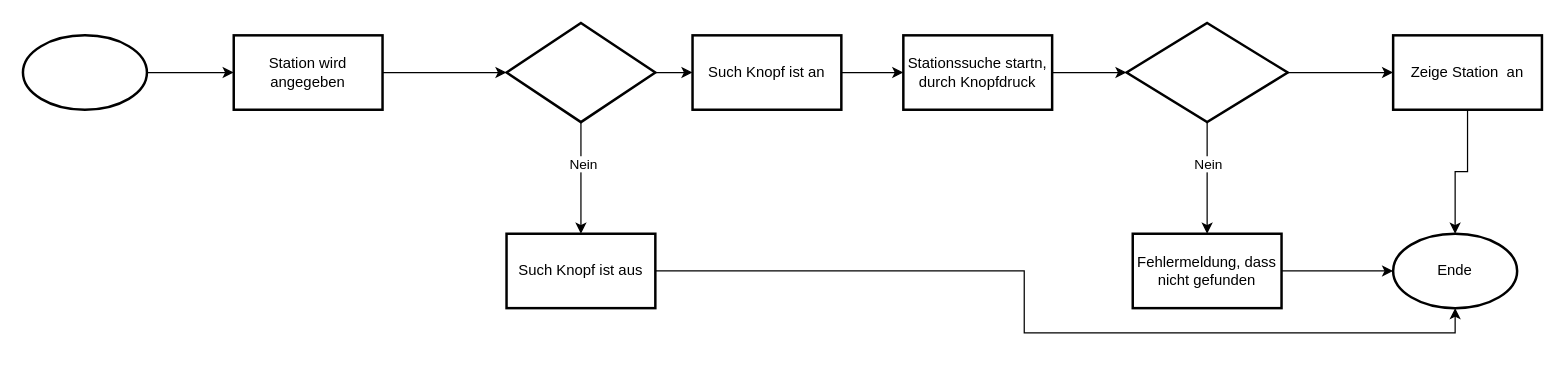
Image size: 1564x365. Some labels were removed from this diagram. Here are the shapes that lost their labels. From the top down, the centre of each, then its label:
(x=84, y=71): Start
(x=580, y=72): Ist valide Stationsuche?
(x=1206, y=72): Wurde Station gefunden?
